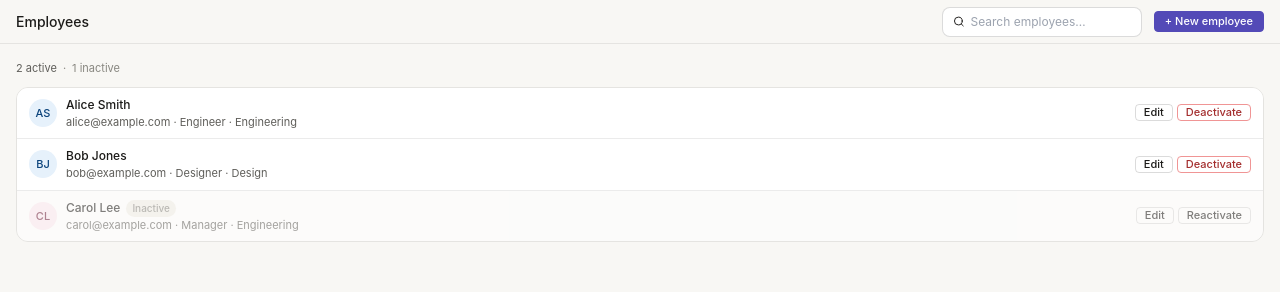
Scenario: EmployeesPage › shows contextual empty state when search has no matches
Expected: the text "Alice Smith" is shown, [66,96,130,112]
Type "zzznomatch" into the field with placeholder "Search employees…".
click(1051, 22); type("zzznomatch")  # box [970,12,1131,30]
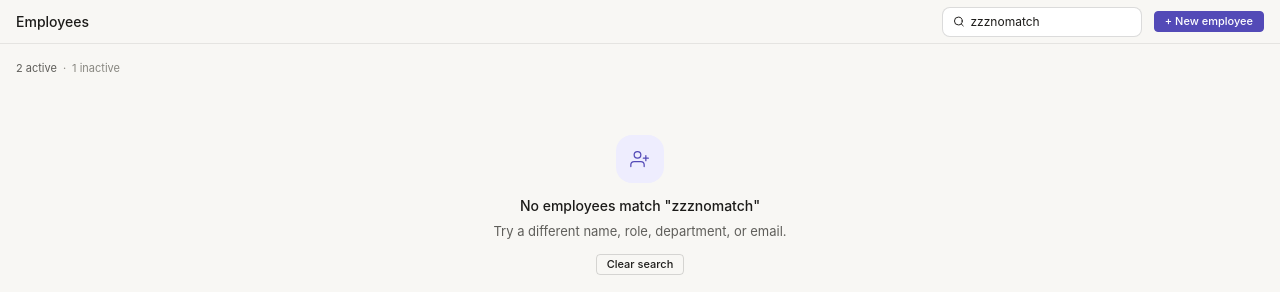
Expected: the text "No employees match \"zzznomatch\"" is shown, [520,194,760,216]
Expected: the button "Clear search" is shown, [596,254,684,275]
